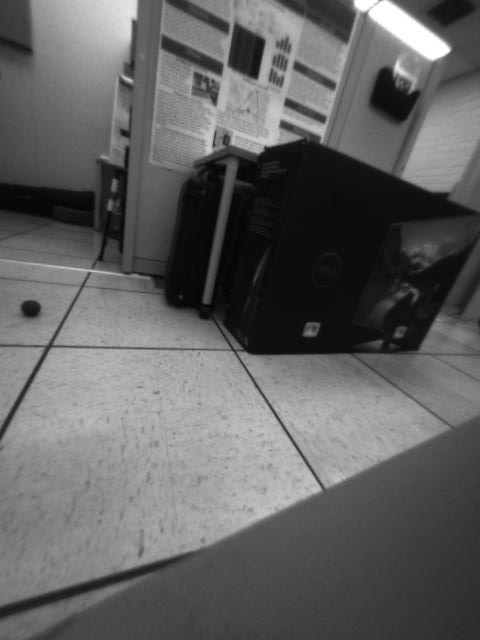dogtoy: (14, 292, 53, 322)
